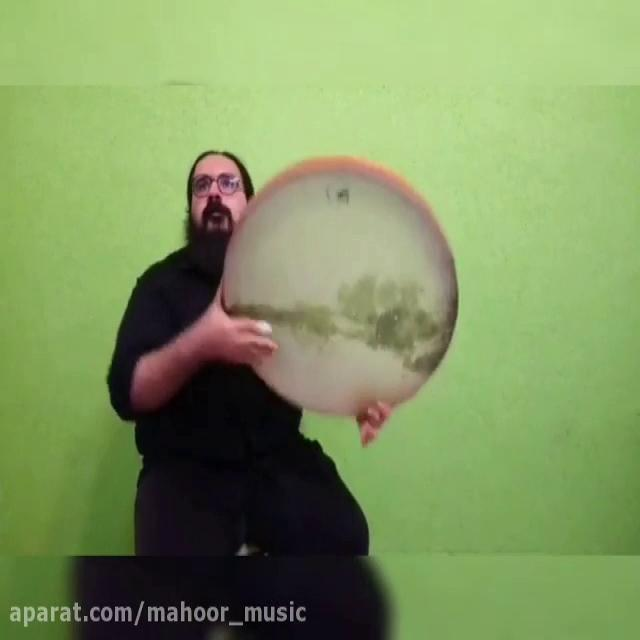Daf: (208, 150, 459, 425)
